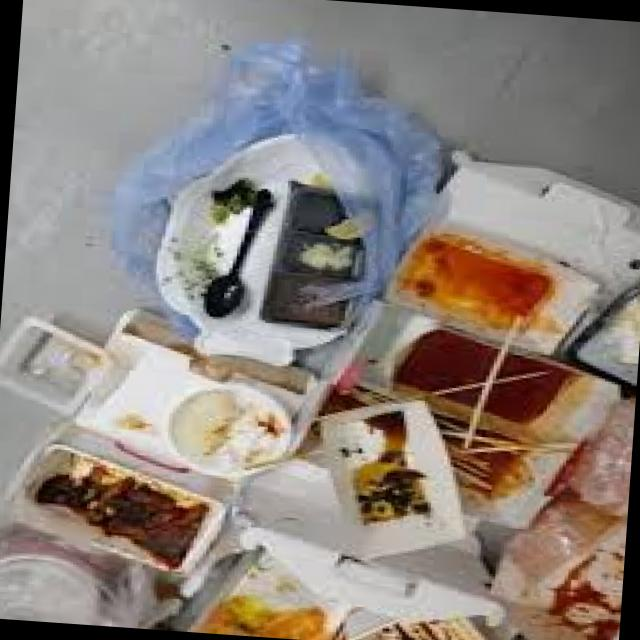paper: (147, 447, 516, 640), (380, 146, 640, 352), (68, 308, 334, 495), (329, 300, 610, 446), (386, 211, 602, 358), (313, 383, 476, 568), (497, 495, 628, 640)
plastic-bag: (101, 24, 446, 342)
plastic-bowl: (0, 428, 238, 579), (251, 177, 385, 335), (151, 375, 308, 487), (0, 305, 131, 422), (0, 535, 114, 625), (559, 276, 640, 401)
plastic-spoon: (199, 182, 280, 317)
styrofoam: (155, 123, 385, 365)
wooden chopsticks: (459, 307, 528, 447), (433, 427, 550, 490), (408, 365, 558, 403)
